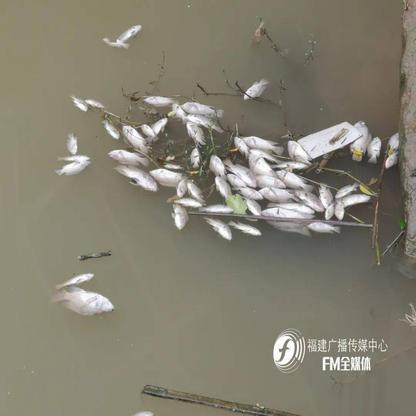deceased fish: (49, 284, 117, 320), (114, 164, 159, 196), (55, 269, 96, 291), (109, 148, 151, 169), (205, 215, 235, 244), (182, 101, 224, 120), (241, 135, 283, 153), (241, 74, 268, 102), (351, 119, 367, 165), (58, 156, 91, 178), (183, 122, 209, 147), (257, 185, 295, 202), (231, 219, 262, 239), (169, 202, 189, 231), (309, 220, 341, 237), (118, 22, 142, 44), (104, 35, 132, 51), (233, 137, 250, 162), (334, 182, 359, 198), (317, 184, 333, 209), (214, 177, 232, 199), (368, 137, 380, 166), (186, 181, 204, 199), (70, 94, 87, 110), (67, 133, 79, 155), (83, 96, 103, 109), (176, 177, 187, 196)
